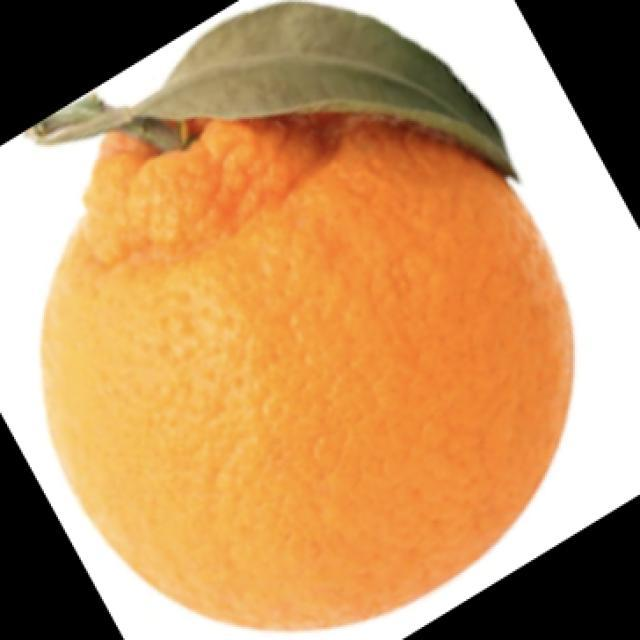Orange: (36, 87, 569, 633)
